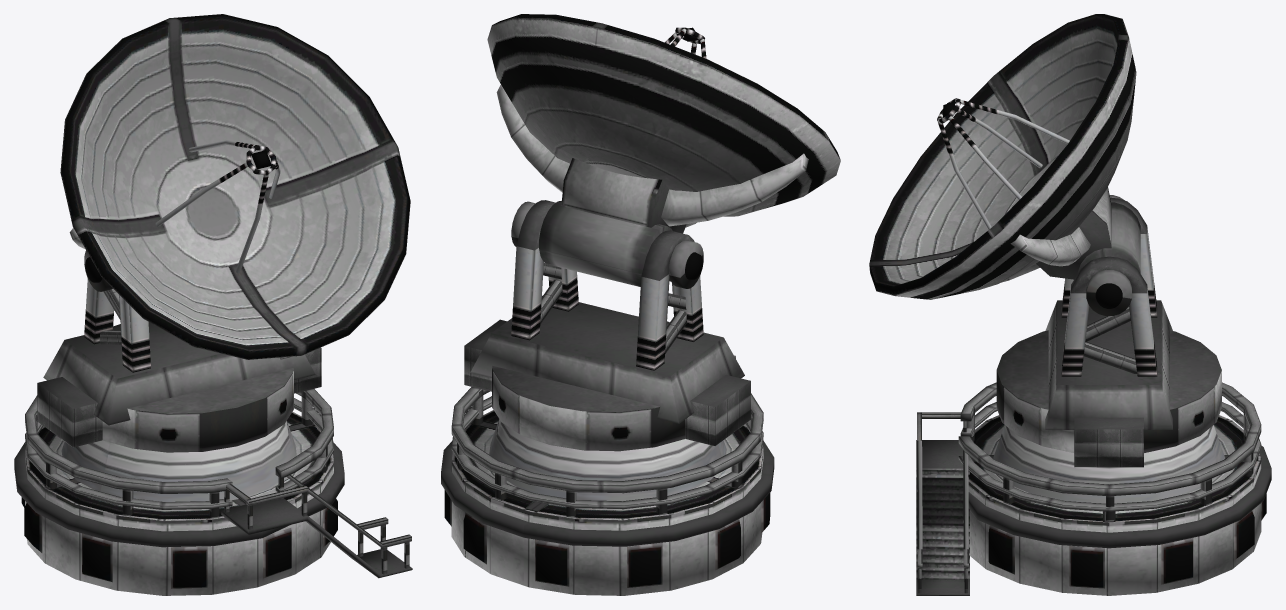
Rendered from UPLCommStation.glb.
The picture shows the model from 3 angles, left to right: view 1: azimuth 30°, elevation 25°; view 2: azimuth 150°, elevation 25°; view 3: azimuth 270°, elevation 25°; orthographic projection. The views are drawn at different scales.
Visible parts, largest first — view 1: Comm_Array_Dish, Comm_Array_Base, Mesh; view 2: Mesh, Comm_Array_Base, Comm_Array_Dish; view 3: Comm_Array_Base, Comm_Array_Dish, Mesh.
Part boxes in pixels (bbox=[...]): Comm_Array_Dish: bbox=[60, 14, 410, 359]; Comm_Array_Base: bbox=[14, 388, 412, 595]; Mesh: bbox=[37, 228, 321, 452]; Mesh: bbox=[464, 85, 808, 451]; Comm_Array_Base: bbox=[441, 355, 774, 595]; Comm_Array_Dish: bbox=[487, 14, 840, 216]; Comm_Array_Base: bbox=[916, 382, 1271, 595]; Comm_Array_Dish: bbox=[869, 14, 1136, 299]; Mesh: bbox=[996, 187, 1221, 467].
Size of the model in its own units: 1.62 by 2.41 by 1.77.
3 materials, 3 textured.
